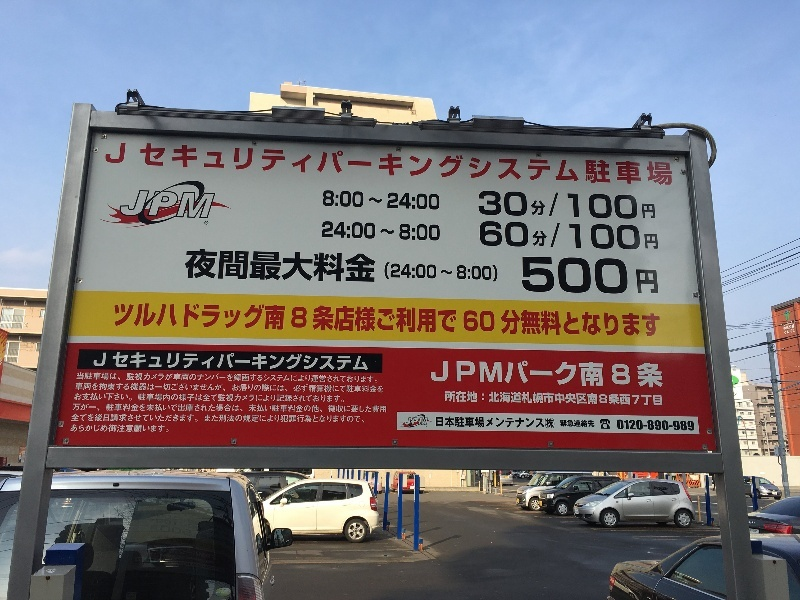text: (657, 144, 673, 187), (145, 144, 160, 187), (161, 144, 176, 187), (177, 144, 192, 187), (193, 144, 208, 187), (209, 144, 224, 187), (225, 144, 240, 187), (241, 144, 256, 187), (257, 144, 272, 187), (273, 144, 288, 187), (289, 144, 304, 187), (305, 144, 320, 187), (321, 144, 336, 187), (337, 144, 352, 187), (353, 144, 368, 187), (369, 144, 384, 187), (385, 144, 400, 187), (401, 144, 416, 187), (417, 144, 432, 187), (433, 144, 448, 187), (449, 144, 464, 187), (465, 144, 480, 187), (481, 144, 496, 187), (497, 144, 512, 187), (513, 144, 528, 187), (529, 144, 544, 187), (545, 144, 560, 187), (561, 144, 576, 187), (577, 144, 592, 187), (593, 144, 608, 187), (609, 144, 624, 187), (625, 144, 640, 187), (641, 144, 656, 187), (529, 257, 544, 295), (545, 257, 560, 295), (561, 257, 576, 295), (577, 257, 592, 295), (593, 257, 608, 295), (609, 257, 624, 295), (625, 257, 640, 295), (641, 257, 656, 295), (193, 249, 208, 283), (209, 249, 224, 283), (225, 249, 240, 283), (241, 249, 256, 283), (257, 249, 272, 283), (273, 249, 288, 283), (289, 249, 304, 283), (305, 249, 320, 283), (321, 249, 336, 283), (337, 249, 352, 283), (353, 249, 368, 283), (129, 304, 144, 338), (145, 304, 160, 338), (161, 304, 176, 338), (177, 304, 192, 338), (193, 304, 208, 338), (209, 304, 224, 338), (225, 304, 240, 338), (241, 304, 256, 338), (257, 304, 272, 338), (273, 304, 288, 338), (289, 304, 304, 338), (305, 304, 320, 338), (321, 304, 336, 338), (337, 304, 352, 338), (353, 304, 368, 338), (369, 304, 384, 338), (385, 304, 400, 338), (401, 304, 416, 338), (417, 304, 432, 338), (433, 304, 448, 338), (449, 304, 464, 338), (465, 304, 480, 338), (481, 304, 496, 338), (497, 304, 512, 338), (513, 304, 528, 338), (529, 304, 544, 338), (545, 304, 560, 338), (561, 304, 576, 338), (577, 304, 592, 338), (593, 304, 608, 338), (609, 304, 624, 338), (625, 304, 640, 338), (641, 304, 656, 338), (129, 190, 144, 219), (145, 190, 160, 219), (161, 190, 176, 219), (177, 190, 192, 219), (193, 190, 208, 219), (481, 221, 496, 250), (497, 221, 512, 250), (513, 221, 528, 250), (529, 221, 544, 250), (545, 221, 560, 250), (561, 221, 576, 250), (577, 221, 592, 250), (593, 221, 608, 250), (609, 221, 624, 250), (625, 221, 640, 250), (641, 221, 656, 250), (481, 191, 496, 219), (497, 191, 512, 219), (513, 191, 528, 219), (529, 191, 544, 219), (545, 191, 560, 219), (561, 191, 576, 219), (577, 191, 592, 219), (593, 191, 608, 219), (609, 191, 624, 219), (625, 191, 640, 219), (641, 191, 656, 219), (513, 360, 528, 388), (529, 360, 544, 388), (545, 360, 560, 388), (561, 360, 576, 388), (577, 360, 592, 388), (593, 360, 608, 388), (609, 360, 624, 388), (625, 360, 640, 388), (641, 360, 656, 388), (116, 304, 128, 338), (433, 361, 448, 383), (449, 361, 464, 383), (465, 361, 480, 383), (481, 361, 496, 383), (337, 190, 352, 210), (353, 190, 368, 210), (369, 190, 384, 210), (385, 190, 400, 210), (401, 190, 416, 210), (417, 190, 432, 210), (337, 221, 352, 241), (353, 221, 368, 241), (369, 221, 384, 241), (385, 221, 400, 241), (401, 221, 416, 241), (417, 221, 432, 241), (113, 142, 126, 164), (113, 353, 128, 372), (129, 353, 144, 372), (145, 353, 160, 372), (161, 353, 176, 372), (177, 353, 192, 372), (193, 353, 208, 372), (209, 353, 224, 372), (225, 353, 240, 372), (241, 353, 256, 372), (257, 353, 272, 372), (273, 353, 288, 372), (289, 353, 304, 372), (305, 353, 320, 372), (321, 353, 336, 372), (337, 353, 352, 372), (353, 353, 368, 372), (322, 221, 336, 241), (324, 190, 336, 210), (401, 264, 416, 280), (417, 264, 432, 280), (433, 264, 448, 280), (449, 264, 464, 280), (465, 264, 480, 280), (369, 249, 376, 283), (449, 392, 464, 406), (465, 392, 480, 406), (481, 392, 496, 406), (497, 392, 512, 406), (513, 392, 528, 406), (529, 392, 544, 406), (545, 392, 560, 406), (561, 392, 576, 406), (577, 392, 592, 406), (593, 392, 608, 406), (609, 392, 624, 406), (625, 392, 640, 406), (641, 392, 656, 406), (186, 249, 192, 283), (449, 417, 464, 430), (465, 417, 480, 430), (481, 417, 496, 430), (497, 417, 512, 430), (513, 417, 528, 430), (529, 417, 544, 430), (523, 257, 528, 295), (625, 420, 640, 432), (641, 420, 656, 432), (657, 420, 672, 432), (673, 420, 688, 432), (129, 372, 144, 384), (145, 372, 160, 384), (161, 372, 176, 384), (177, 372, 192, 384), (193, 372, 208, 384), (209, 372, 224, 384), (225, 372, 240, 384), (241, 372, 256, 384), (257, 372, 272, 384), (273, 372, 288, 384), (289, 372, 304, 384), (305, 372, 320, 384), (321, 372, 336, 384), (337, 372, 352, 384), (353, 372, 368, 384), (481, 264, 492, 280), (209, 190, 215, 219), (140, 144, 144, 187), (506, 360, 512, 388), (657, 360, 663, 388), (145, 392, 160, 403), (161, 392, 176, 403), (177, 392, 192, 403), (193, 392, 208, 403), (209, 392, 224, 403), (225, 392, 240, 403), (241, 392, 256, 403), (257, 392, 272, 403), (273, 392, 288, 403), (289, 392, 304, 403), (305, 392, 320, 403), (321, 392, 336, 403), (436, 417, 448, 430), (81, 382, 96, 392), (97, 382, 112, 392), (113, 382, 128, 392), (129, 382, 144, 392), (145, 382, 160, 392), (161, 382, 176, 392), (177, 382, 192, 392), (193, 382, 208, 392), (209, 382, 224, 392), (391, 264, 400, 280), (433, 190, 440, 210), (433, 221, 440, 241), (97, 353, 107, 367), (657, 304, 661, 338), (81, 372, 96, 381), (97, 372, 112, 381), (305, 384, 320, 393), (321, 384, 336, 393), (337, 384, 352, 393), (353, 384, 368, 393), (369, 384, 384, 393), (81, 393, 96, 402), (97, 393, 112, 402), (113, 393, 128, 402), (113, 403, 128, 412), (129, 403, 144, 412), (145, 403, 160, 412), (161, 403, 176, 412), (177, 403, 192, 412), (193, 403, 208, 412), (209, 403, 224, 412), (225, 403, 240, 412), (257, 404, 272, 413), (273, 404, 288, 413), (289, 404, 304, 413), (305, 404, 320, 413), (337, 405, 352, 414), (353, 405, 368, 414), (369, 405, 384, 414), (81, 413, 96, 422), (97, 413, 112, 422), (113, 413, 128, 422), (129, 413, 144, 422), (145, 413, 160, 422), (161, 413, 176, 422), (177, 413, 192, 422), (209, 414, 224, 423), (225, 414, 240, 423), (241, 414, 256, 423), (257, 414, 272, 423), (273, 414, 288, 423), (289, 414, 304, 423), (305, 414, 320, 423), (321, 414, 336, 423), (337, 414, 352, 423), (497, 361, 503, 383), (273, 384, 289, 392), (81, 425, 96, 433), (97, 425, 112, 433), (113, 425, 128, 433), (129, 425, 144, 433), (145, 425, 160, 433), (369, 372, 379, 384), (241, 384, 256, 392), (257, 384, 272, 392), (81, 404, 96, 412), (545, 417, 554, 430), (124, 190, 128, 219), (107, 142, 112, 164), (353, 414, 365, 423), (561, 420, 576, 427), (577, 420, 592, 427), (337, 392, 346, 403), (294, 384, 304, 393), (657, 392, 663, 406), (617, 420, 624, 432), (113, 372, 122, 381), (405, 418, 416, 425), (417, 418, 428, 425), (657, 257, 659, 295), (689, 420, 695, 432), (71, 425, 80, 433), (72, 413, 80, 422), (785, 324, 795, 331), (785, 321, 796, 327), (138, 392, 144, 403), (232, 384, 240, 392), (249, 404, 256, 413), (329, 405, 336, 414), (785, 329, 795, 335), (444, 392, 448, 406), (161, 425, 168, 433), (73, 404, 80, 412), (106, 403, 112, 412), (193, 413, 199, 422), (76, 382, 80, 392), (76, 393, 80, 402), (129, 393, 133, 402), (97, 404, 101, 412), (657, 221, 658, 250), (479, 191, 480, 219), (77, 372, 80, 381), (241, 403, 244, 412), (780, 321, 784, 327), (126, 372, 128, 384), (431, 361, 432, 383), (321, 404, 323, 413), (385, 405, 387, 414), (206, 414, 208, 423), (593, 420, 595, 427), (95, 353, 96, 367), (205, 221, 208, 225), (225, 382, 226, 392), (783, 324, 784, 331), (426, 426, 432, 427)
